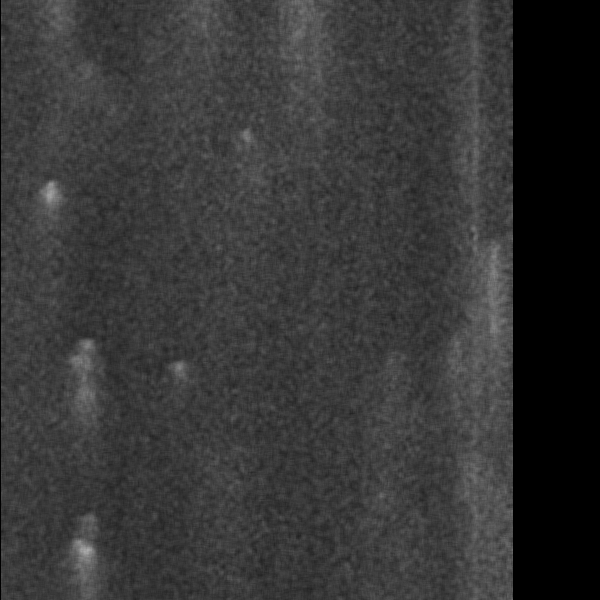spark: (75, 334, 97, 465), (61, 536, 102, 597), (32, 179, 70, 233), (234, 120, 257, 182), (165, 357, 188, 393)
